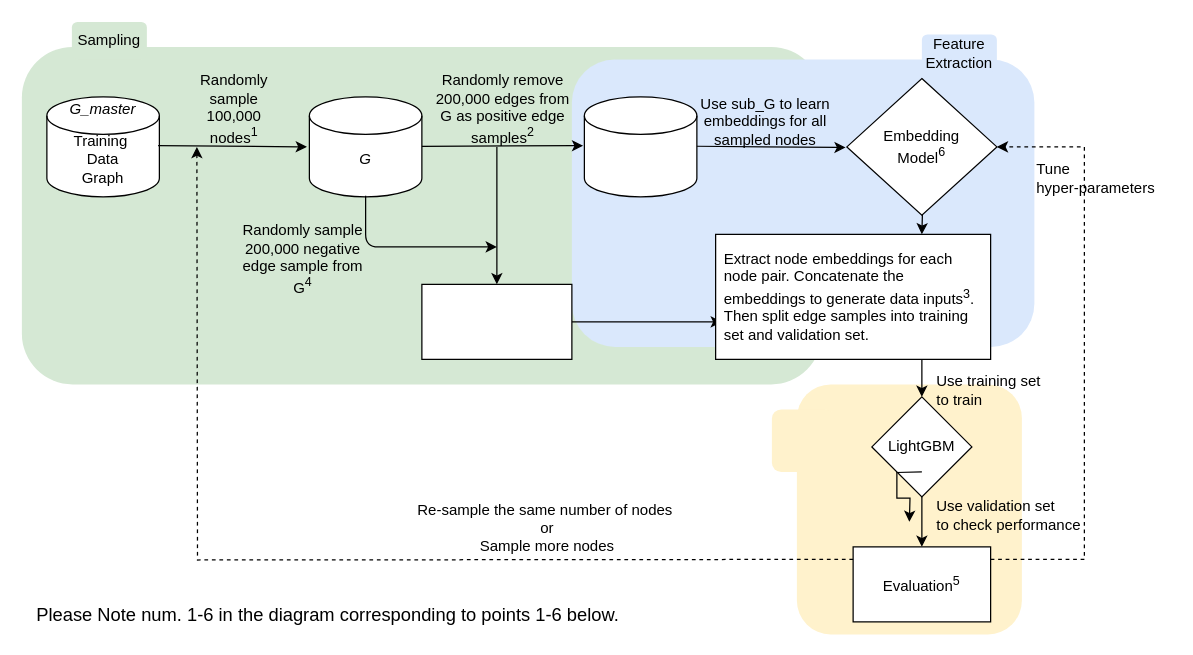
This 1193x655 diagram has some shape labels left out. The shapes that lost their labels are listed below. From the top down, each one's centre as x and y in pixels, then its label:
the point at 640,146: sub_G
the point at 496,321: 400,000 Edge samples
the point at 802,440: Fit, Predict, Evaluate
